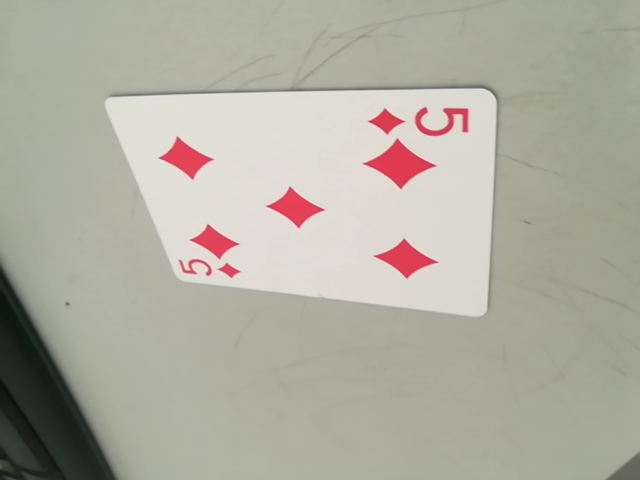fk 5: (364, 99, 473, 139), (176, 252, 244, 283)
